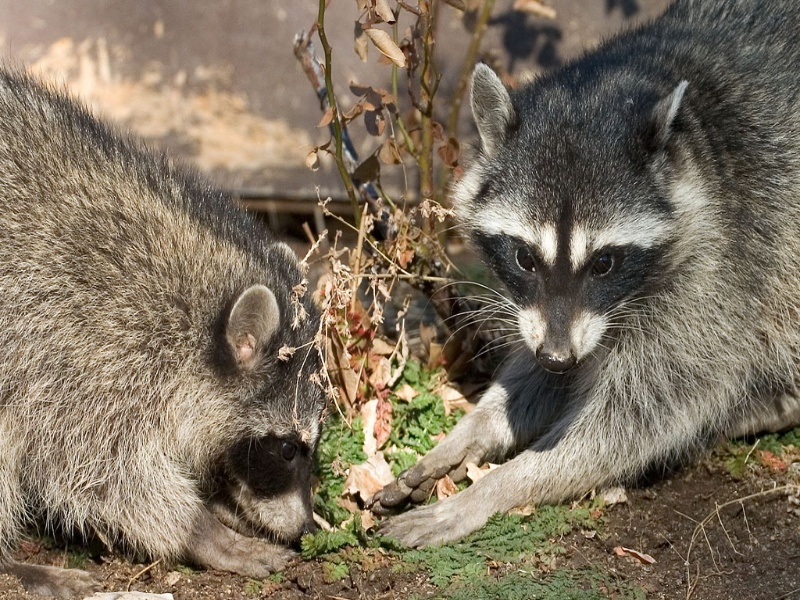raccoon: (369, 11, 789, 555), (1, 67, 329, 578)
